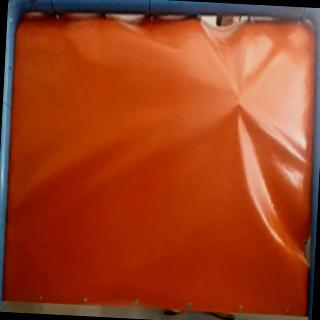Hit-hRxx: (231, 100, 247, 110)
